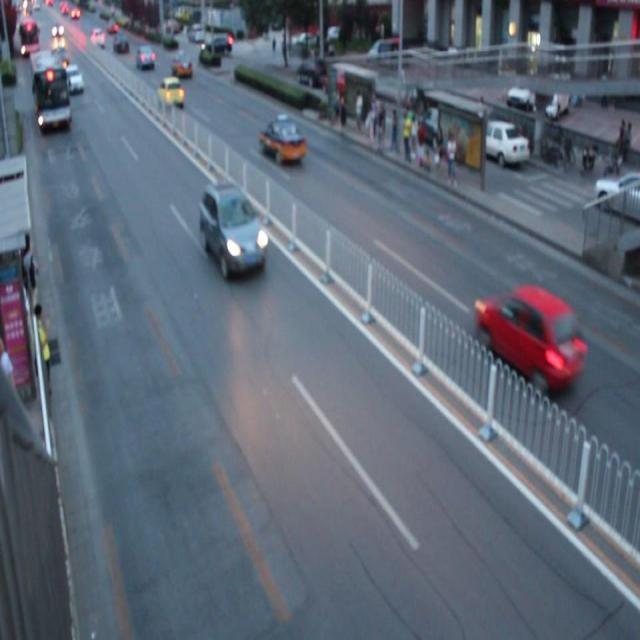car: (474, 283, 582, 396), (198, 183, 266, 277), (259, 115, 304, 167), (158, 77, 184, 111)
van: (30, 51, 73, 128)
